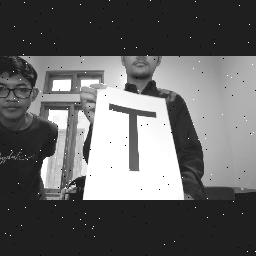t: (104, 102, 162, 178)
